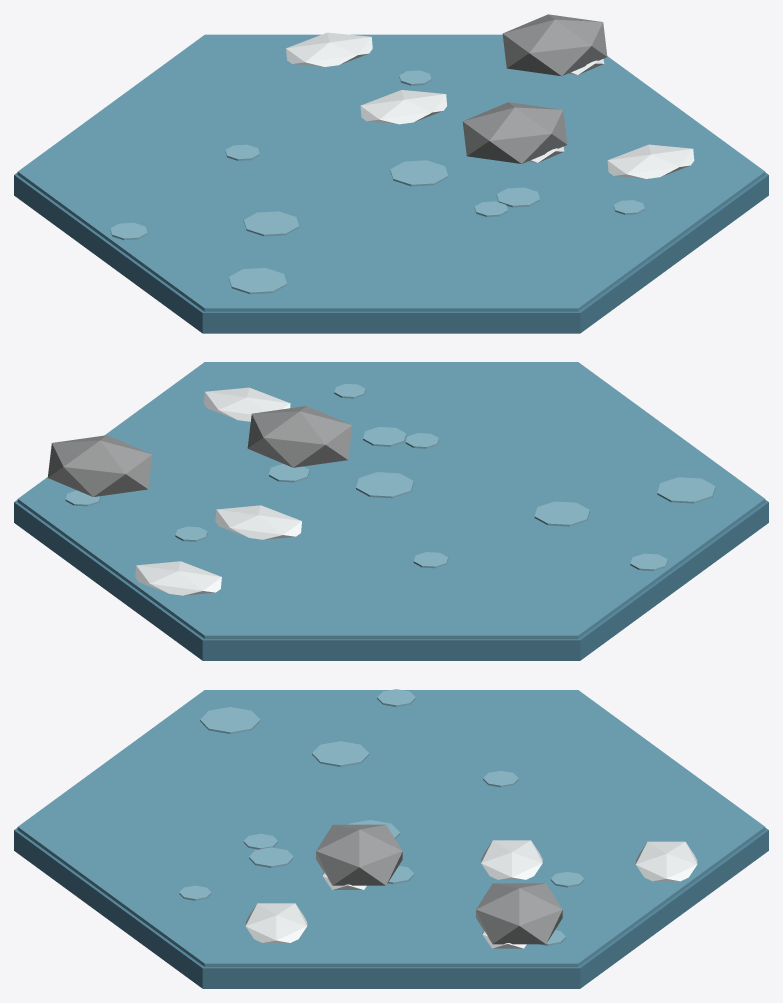
The model's file is water_to_grass.glb.
The picture shows the model from 3 angles, top to bottom: view 1: azimuth 30°, elevation 25°; view 2: azimuth 150°, elevation 25°; view 3: azimuth 270°, elevation 25°; orthographic projection.
Parts seen in each view (by area): view 1: plate; view 2: plate; view 3: plate.
Boxes of the visible parts, box(x1,y1,x2,y2) form: plate: box(14, 14, 768, 333); plate: box(14, 362, 768, 660); plate: box(14, 689, 768, 988).
Size of the model in its own units: 1.73 by 0.215 by 2.
